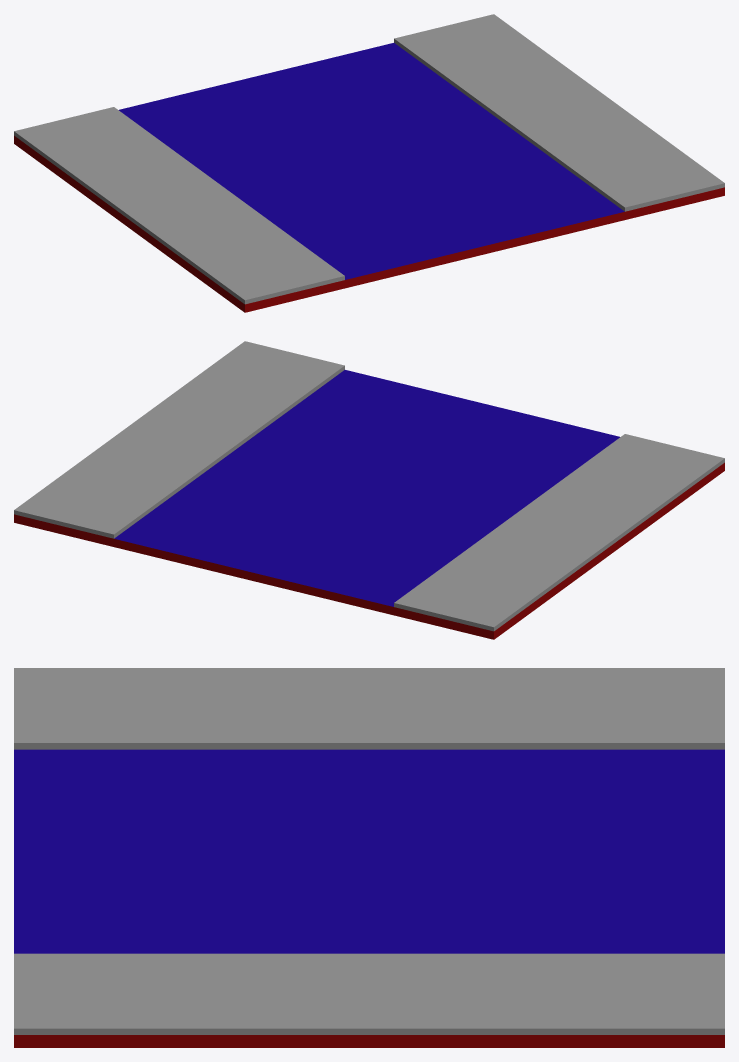
The model's file is Street_00.fbx.
3 renders of one model, top to bottom at view 1: azimuth 30°, elevation 25°; view 2: azimuth 150°, elevation 25°; view 3: azimuth 270°, elevation 25°, orthographic. The views are drawn at different scales.
Parts seen in each view (by area): view 1: Box001; view 2: Box001; view 3: Box001.
Part boxes in pixels (<box>): Box001: <box>14,14,724,312</box>; Box001: <box>14,341,724,639</box>; Box001: <box>14,668,724,1047</box>.
Size of the model in its own units: 236 by 197 by 5.91.
